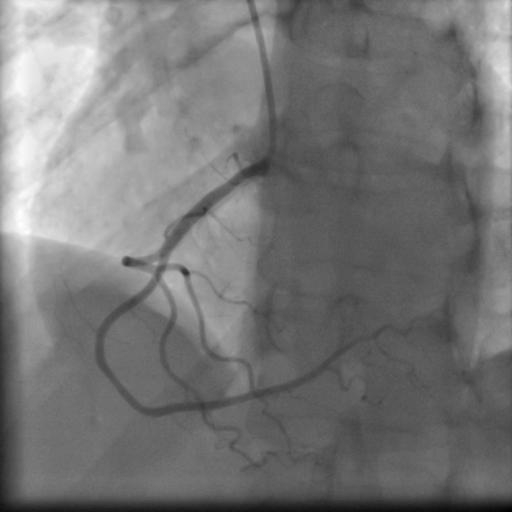Stenosis: (106, 359, 133, 399)
